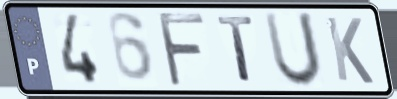4: (60, 12, 103, 87)
6: (108, 8, 157, 90)
F: (154, 10, 208, 90)
K: (323, 14, 377, 87)
T: (214, 14, 257, 86)
U: (261, 10, 326, 91)
